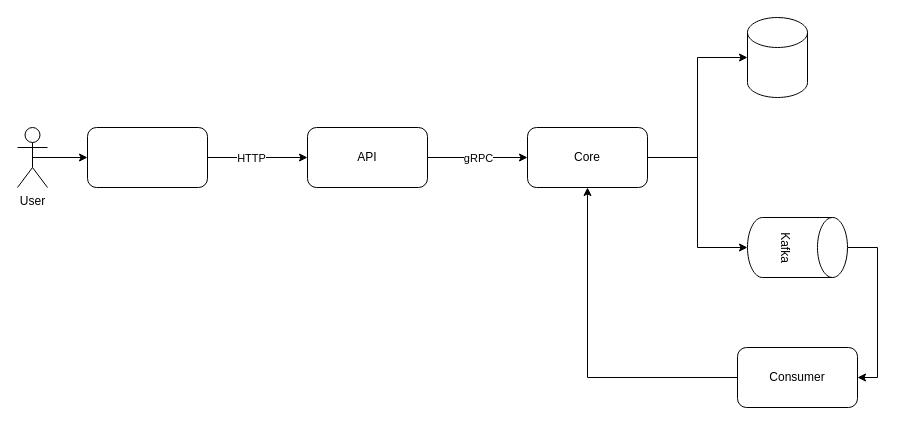
The diagram is 903 pixels wide and 425 high, and some of its shapes have lost their labels. The centre of each missing label's shape, as x and y in pixels:
"DB" goes at (777,57).
"FE" goes at (147,157).
